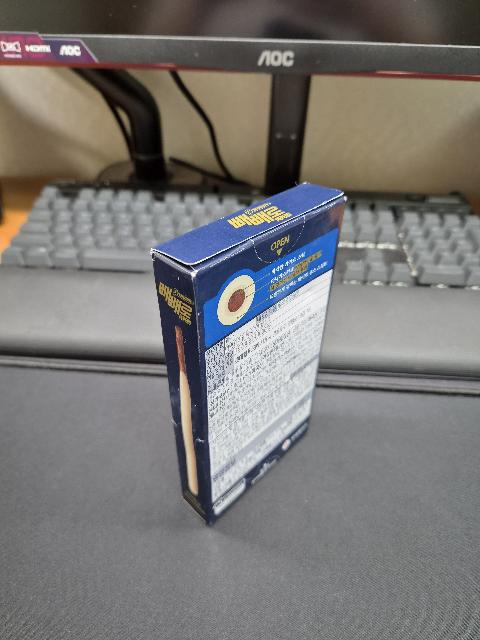pepero: (150, 184, 347, 527)
